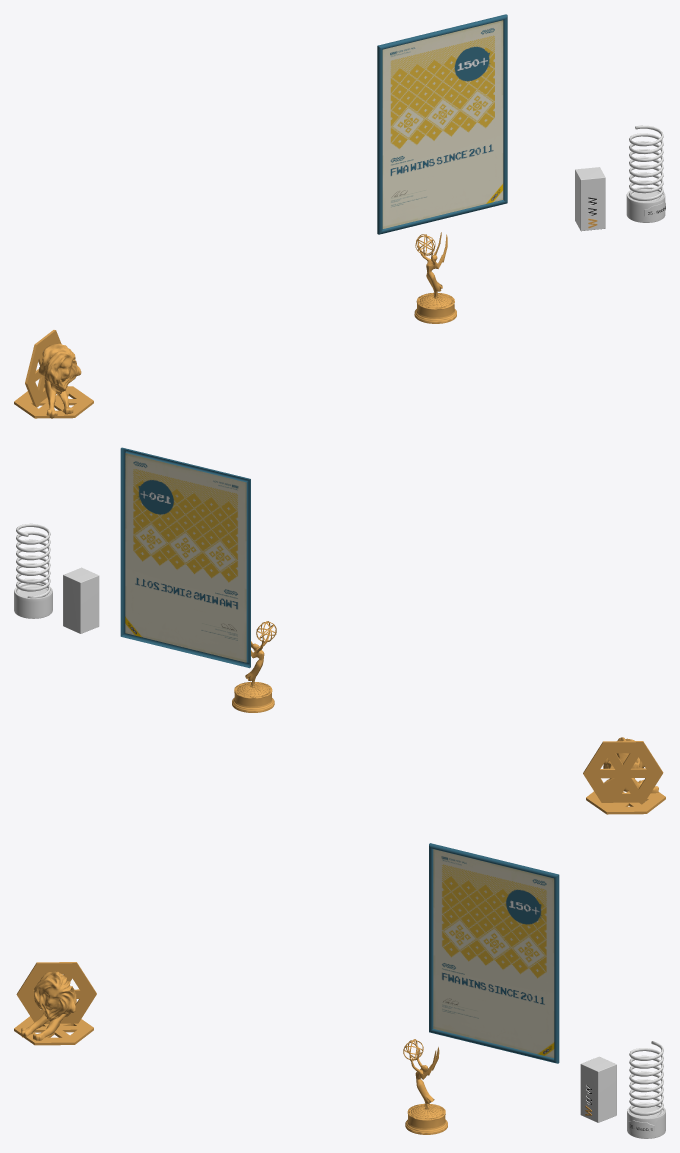
File: compressed-webgpu-4029630f-8be6-4b44-8cd9-ebe483efadb1_office_award.glb
The picture shows the model from 3 angles, top to bottom: view 1: azimuth 30°, elevation 25°; view 2: azimuth 150°, elevation 25°; view 3: azimuth 330°, elevation 25°; orthographic projection.
Visible parts, largest first — view 1: reward_office; view 2: reward_office; view 3: reward_office.
Boxes of the visible parts, <box> form: reward_office: <box>14,14,665,418</box>; reward_office: <box>14,447,665,814</box>; reward_office: <box>14,843,665,1138</box>.
Bounding box in the file's own units: 3.76 × 1.42 × 0.4689.
6 materials, 1 textured.
